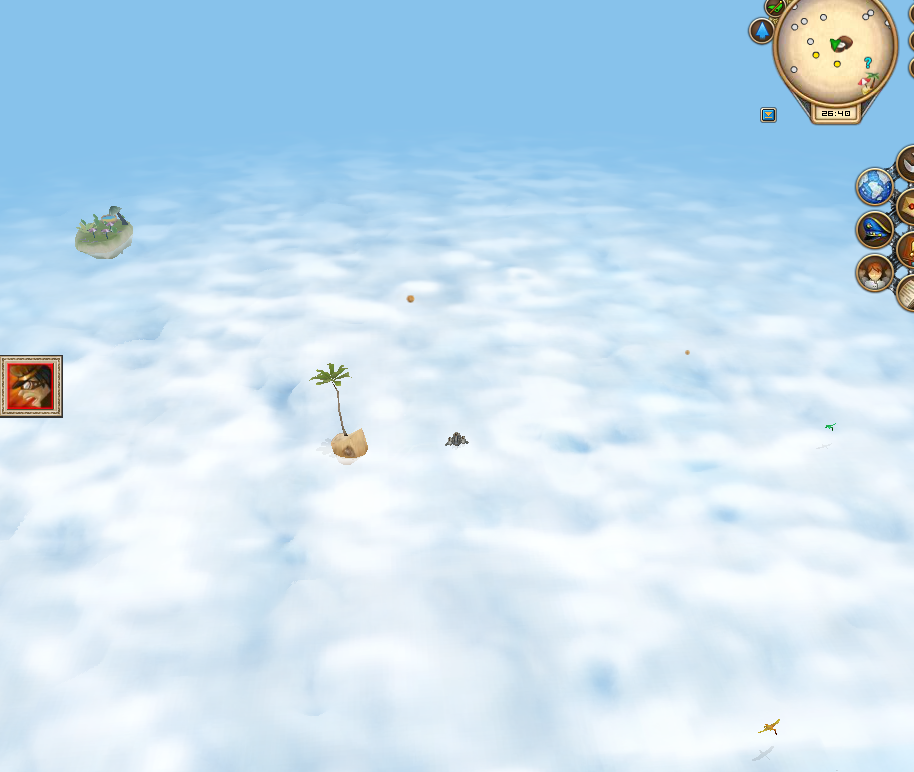coconut: (401, 291, 419, 305)
palm: (304, 360, 376, 461)
